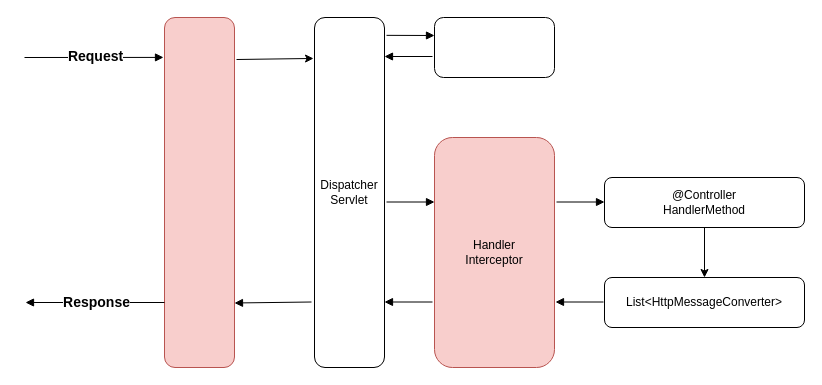
The diagram is 822 pixels wide and 385 high, and some of its shapes have lost their labels. The shapes that lost their labels are listed below. From the top down, each one's box as (x1, y1, x2, y2) in pixels, then its label:
(434, 16, 554, 78): HandlerMapping
(164, 16, 234, 368): Filter
